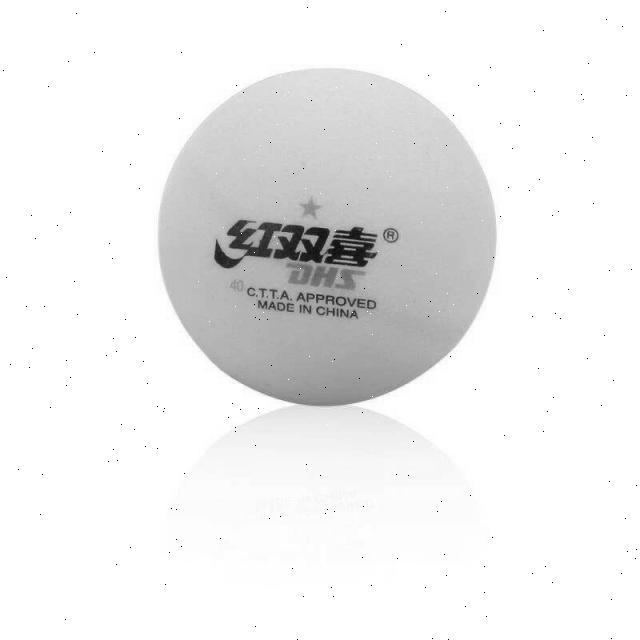ping-pong-ball: (148, 61, 500, 410)
